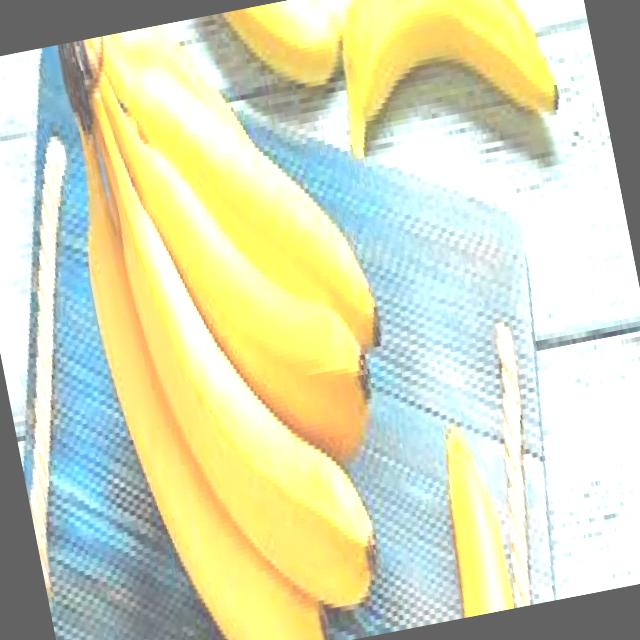Banana: (43, 0, 439, 640), (322, 0, 567, 172), (429, 427, 515, 618), (217, 0, 363, 106)
